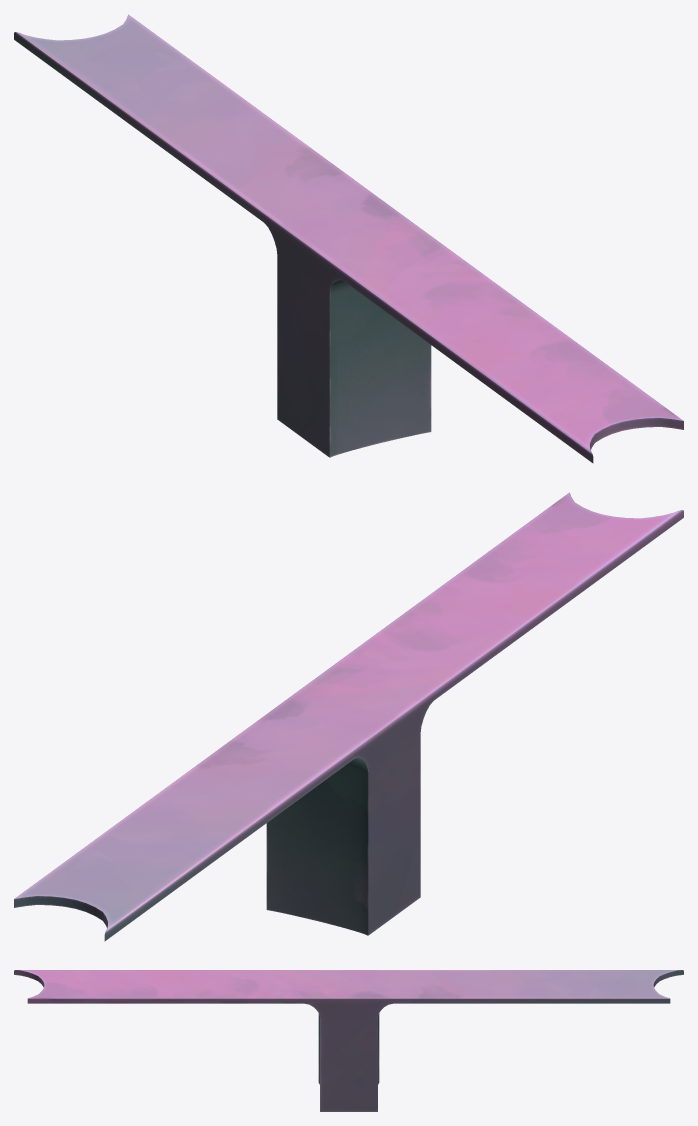
File: pip2_tableplate_bm.fbx
3 views of the same model, one above another, from view 1: azimuth 30°, elevation 25°; view 2: azimuth 150°, elevation 25°; view 3: azimuth 270°, elevation 25° (orthographic). The views are drawn at different scales.
Parts seen in each view (by area): view 1: table_lab; view 2: table_lab; view 3: table_lab.
Boxes of the visible parts, <box> form: table_lab: <box>14,14,683,463</box>; table_lab: <box>14,492,683,941</box>; table_lab: <box>14,970,683,1111</box>.
Bounding box in the file's own units: 60.02 × 110 × 587.
Materials: 1 (1 with a texture image).
